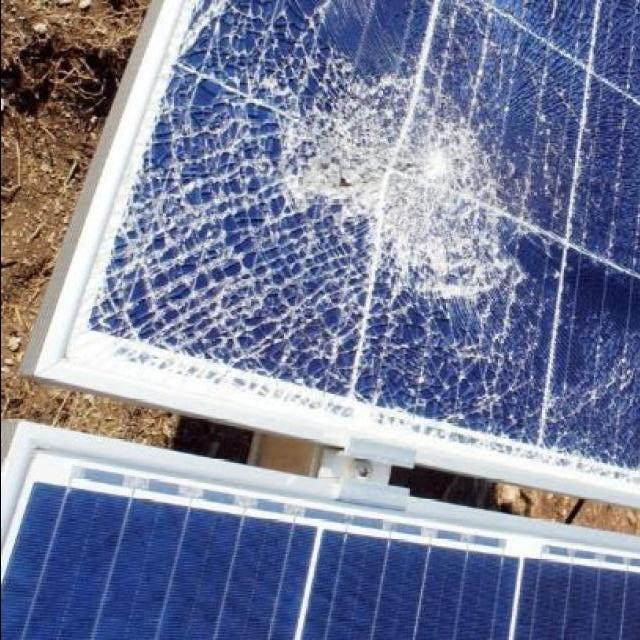cracked: (69, 0, 634, 500)
